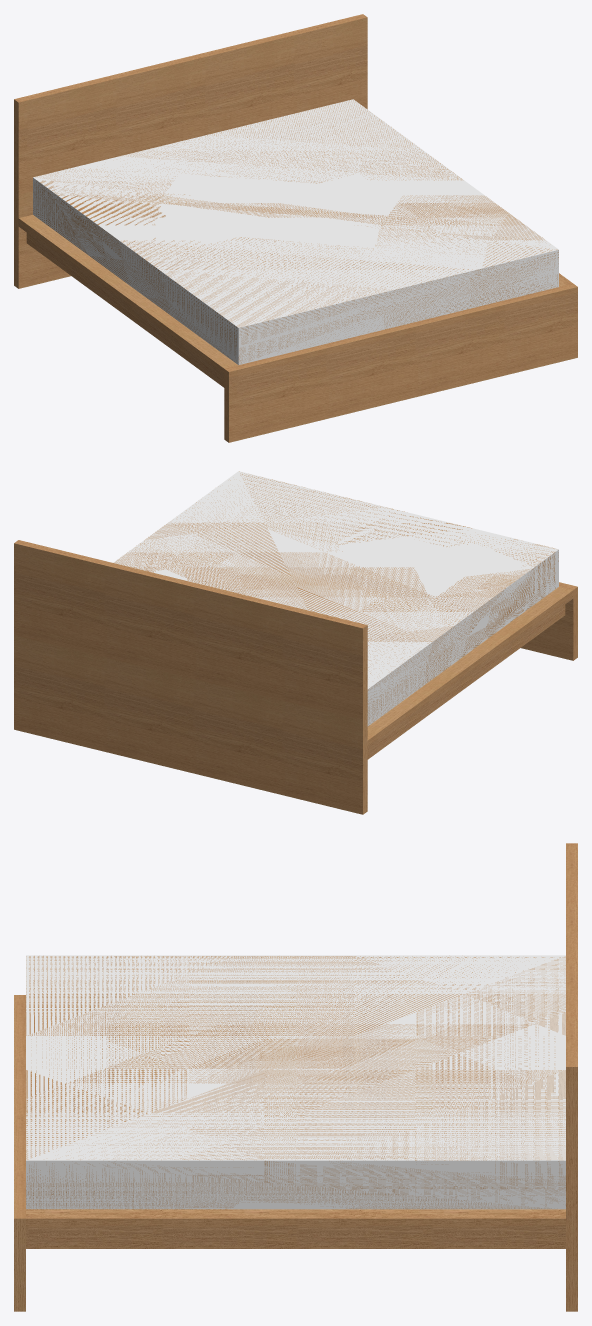
File: malm-bed.dae
3 renders of one model, top to bottom at view 1: azimuth 30°, elevation 25°; view 2: azimuth 150°, elevation 25°; view 3: azimuth 270°, elevation 25°, orthographic. The views are drawn at different scales.
Parts seen in each view (by area): view 1: group_0, SketchUp; view 2: SketchUp, group_0; view 3: group_0, SketchUp.
Part boxes in pixels (box(x1,y1,x2,y2)): group_0: box(33, 99, 558, 365); SketchUp: box(14, 14, 577, 442); SketchUp: box(14, 540, 577, 814); group_0: box(113, 471, 558, 726); group_0: box(26, 955, 565, 1209); SketchUp: box(14, 843, 577, 1311).
Size of the model in its own units: 77.17 by 82.28 by 39.37.
